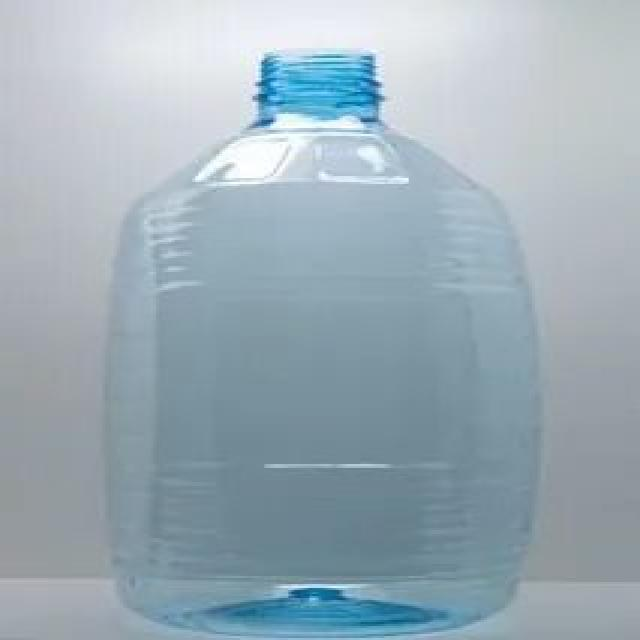blue: (105, 46, 541, 640)
